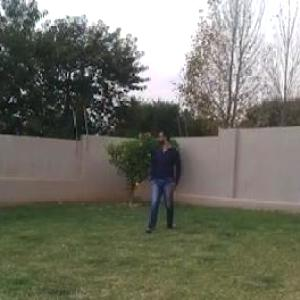follow: (148, 127, 175, 233)
